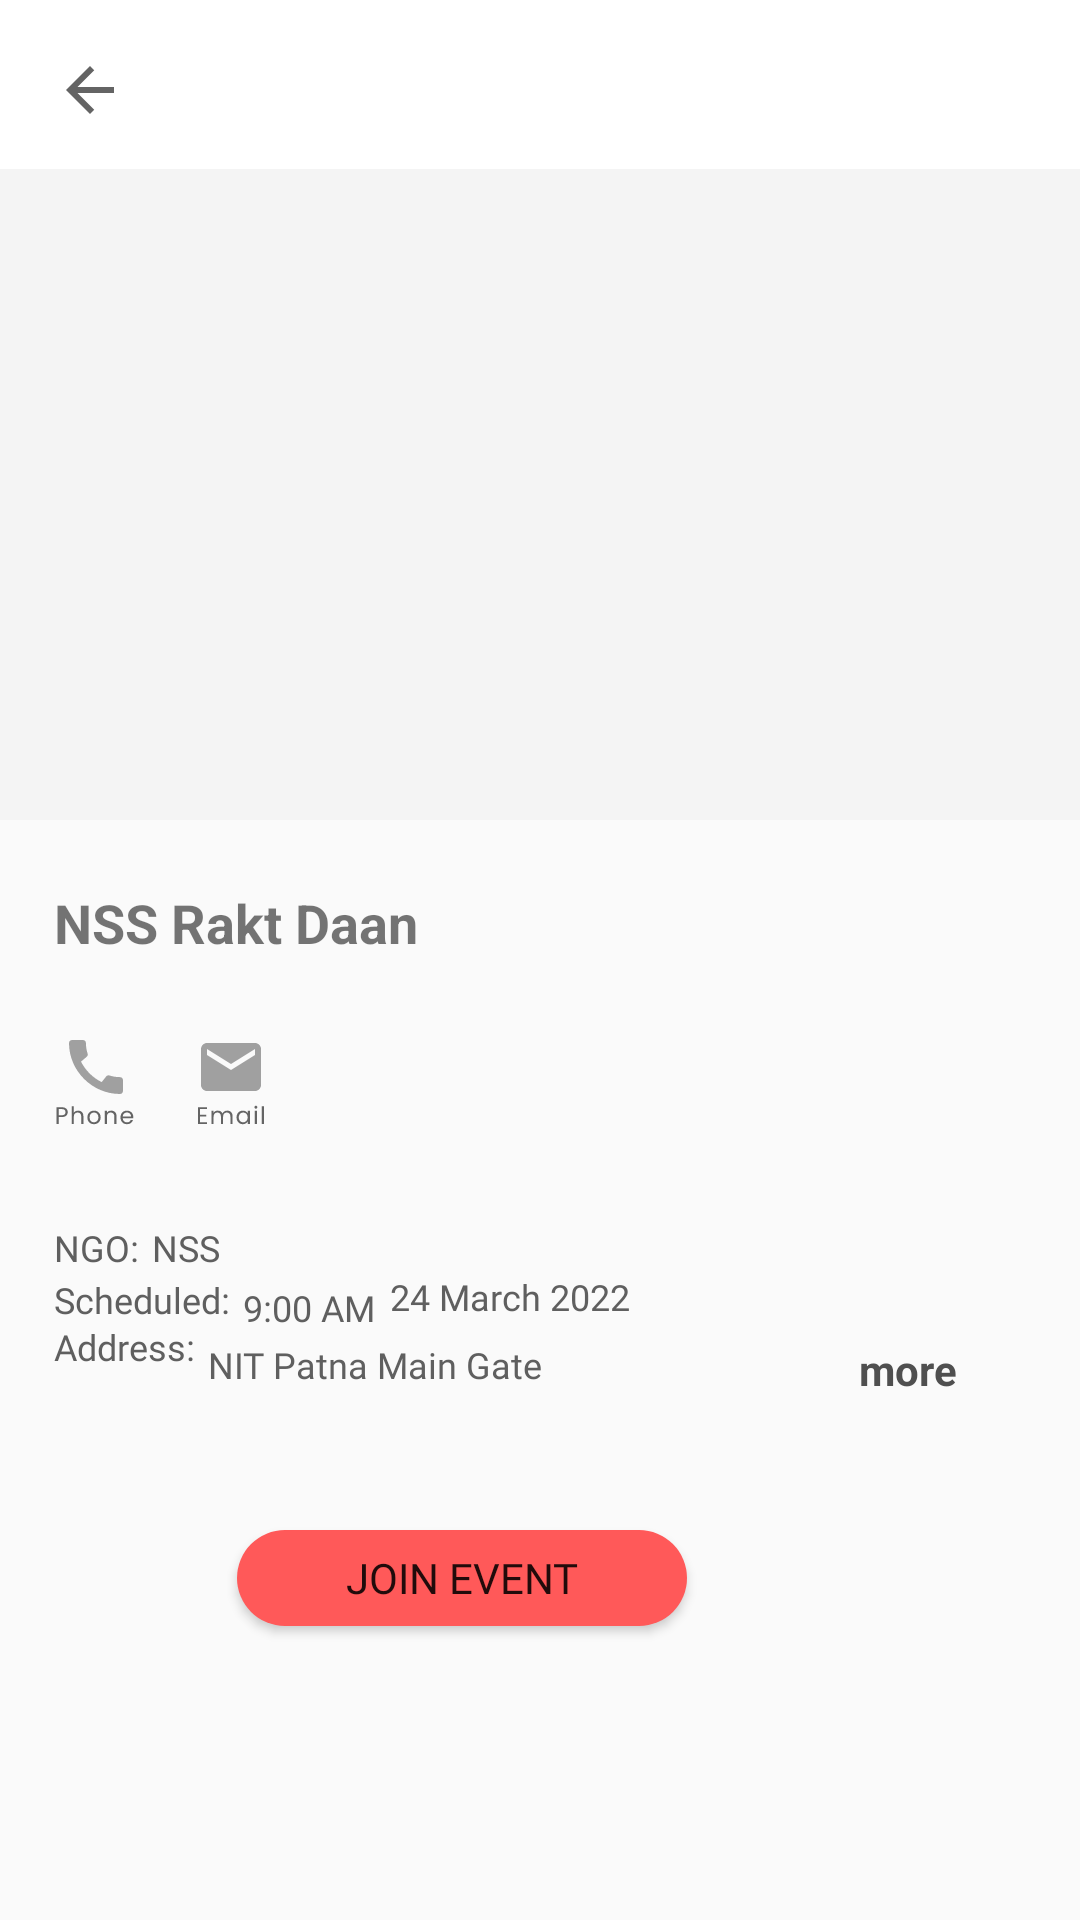

Icon click points for this 1080px×1920px phone screenshot, format (x,y):
arrow back: (90,90)
